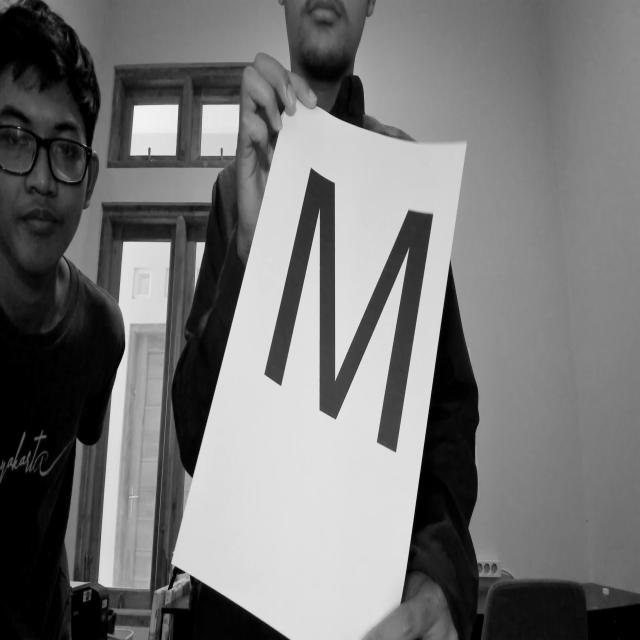m: (262, 160, 437, 477)
